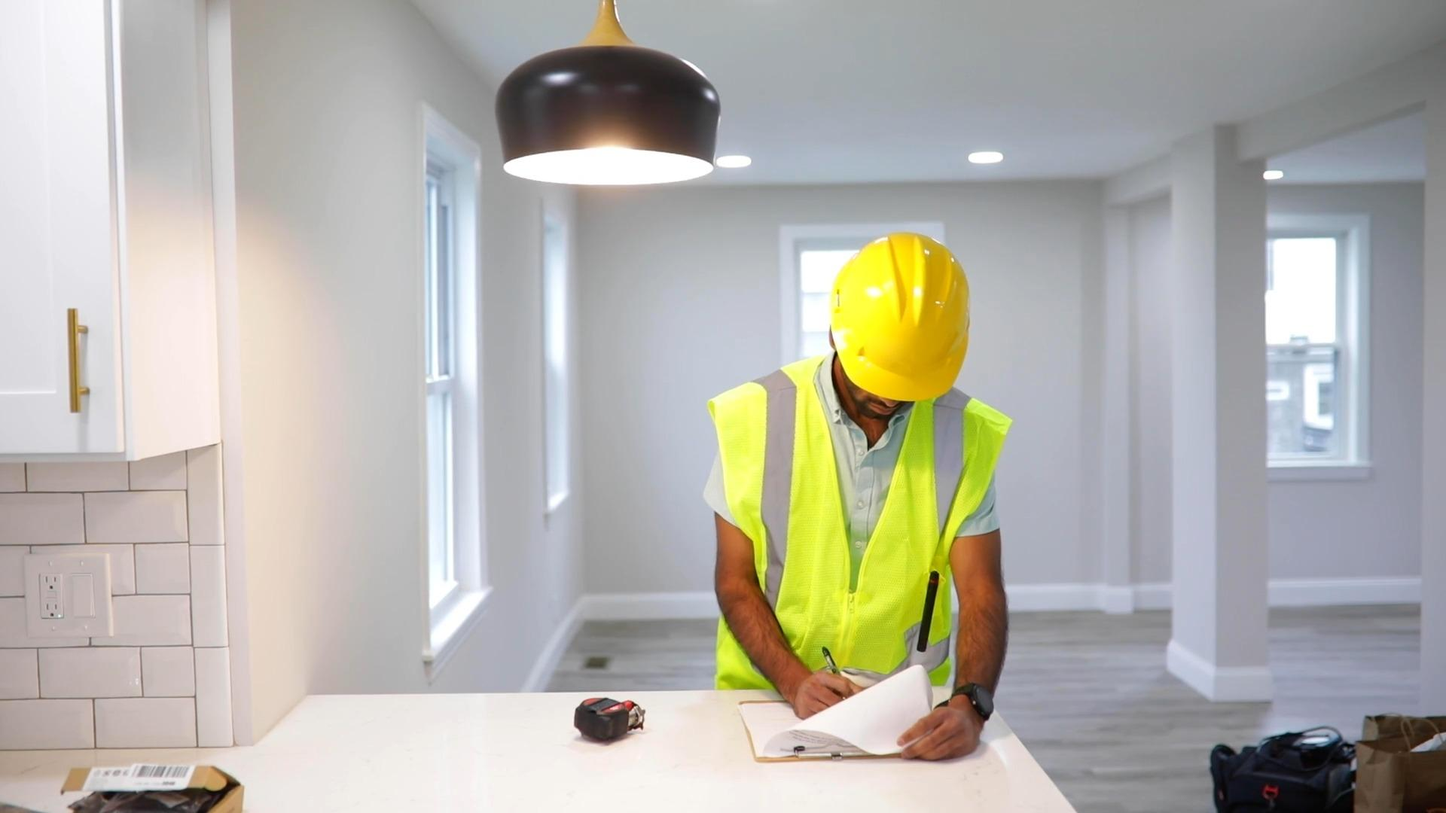Helmet: (828, 231, 970, 402)
Person: (703, 233, 1012, 763)
Safety Vest: (744, 400, 972, 644)
bare-arms: (889, 687, 986, 763), (789, 661, 855, 727)
no-boot: (1209, 724, 1356, 811), (573, 695, 645, 741)
